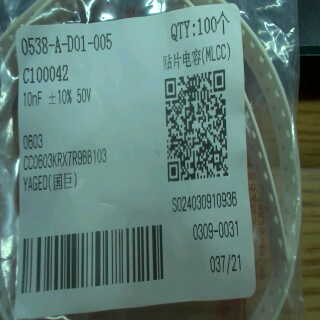10nF: (21, 90, 45, 110)
